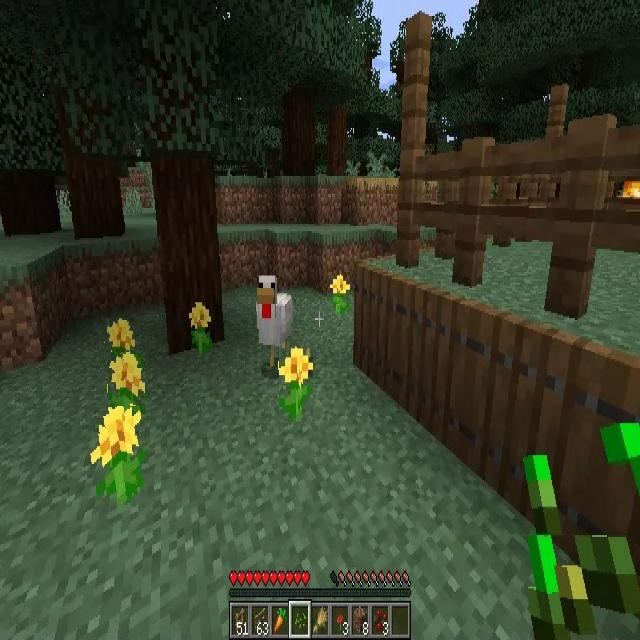duck: (256, 277, 293, 367)
flower: (90, 404, 146, 504), (279, 348, 313, 422), (108, 354, 145, 406), (190, 300, 211, 356), (106, 318, 136, 352), (330, 275, 349, 320)
